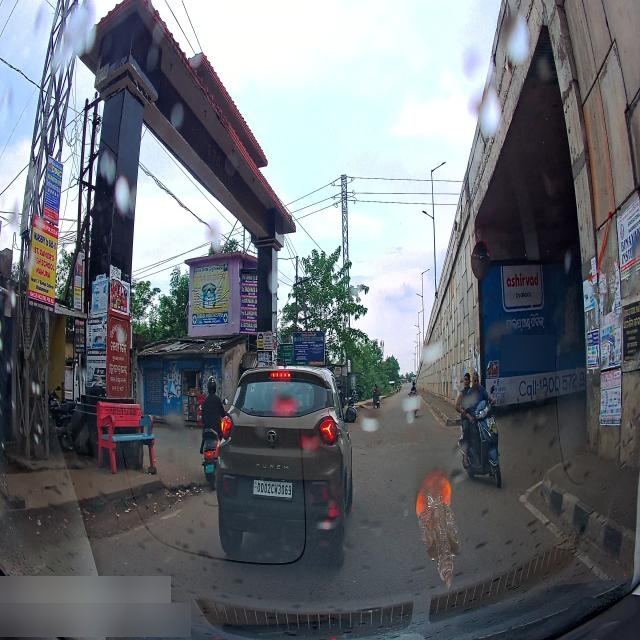pothole: (13, 483, 198, 528)
